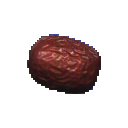gd: (20, 23, 111, 112)
